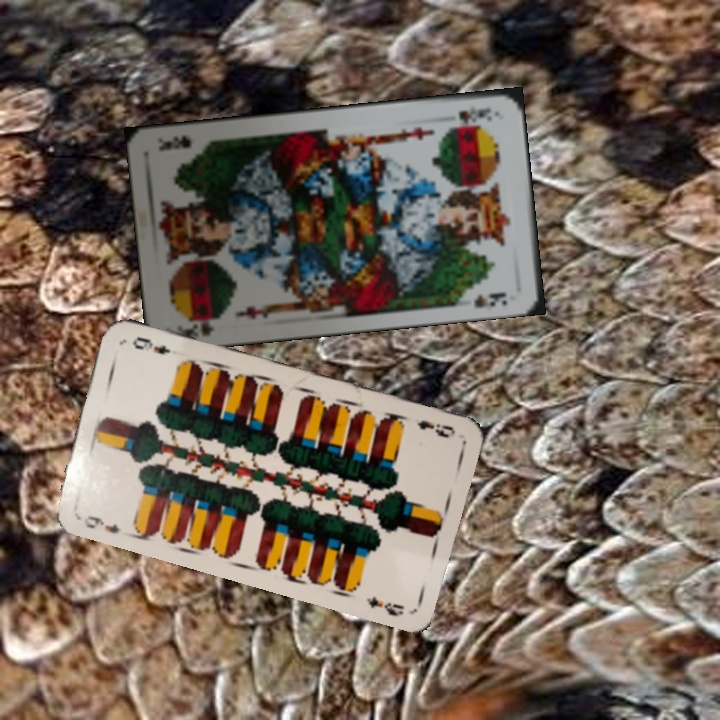E9: (413, 416, 458, 441), (80, 511, 122, 537)
SK: (178, 312, 224, 340), (454, 103, 494, 127)
